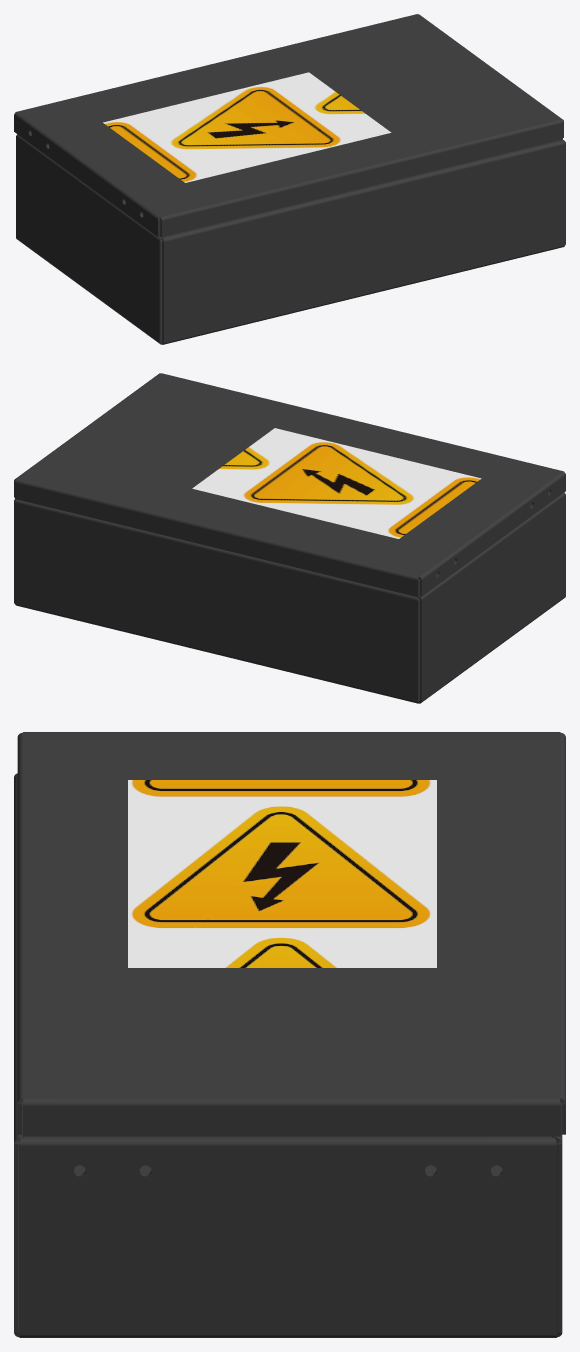
Rendered from PaneldeControl.fbx.
3 views of the same model, one above another, from view 1: azimuth 30°, elevation 25°; view 2: azimuth 150°, elevation 25°; view 3: azimuth 270°, elevation 25° (orthographic). The views are drawn at different scales.
Parts seen in each view (by area): view 1: Mirror1, Cut-Extrude1, Plane001; view 2: Mirror1, Cut-Extrude1, Plane001; view 3: Cut-Extrude1, Mirror1, Plane001.
Boxes of the visible parts, x1,y1,x2,y2 form: Mirror1: [16, 131, 565, 344]; Cut-Extrude1: [14, 14, 563, 237]; Plane001: [103, 72, 391, 182]; Mirror1: [14, 490, 565, 703]; Cut-Extrude1: [14, 373, 565, 597]; Plane001: [192, 428, 481, 538]; Cut-Extrude1: [17, 732, 565, 1136]; Mirror1: [14, 773, 562, 1337]; Plane001: [128, 780, 436, 967].
Bounding box in the file's own units: 15.79 × 4.73 × 9.91.
